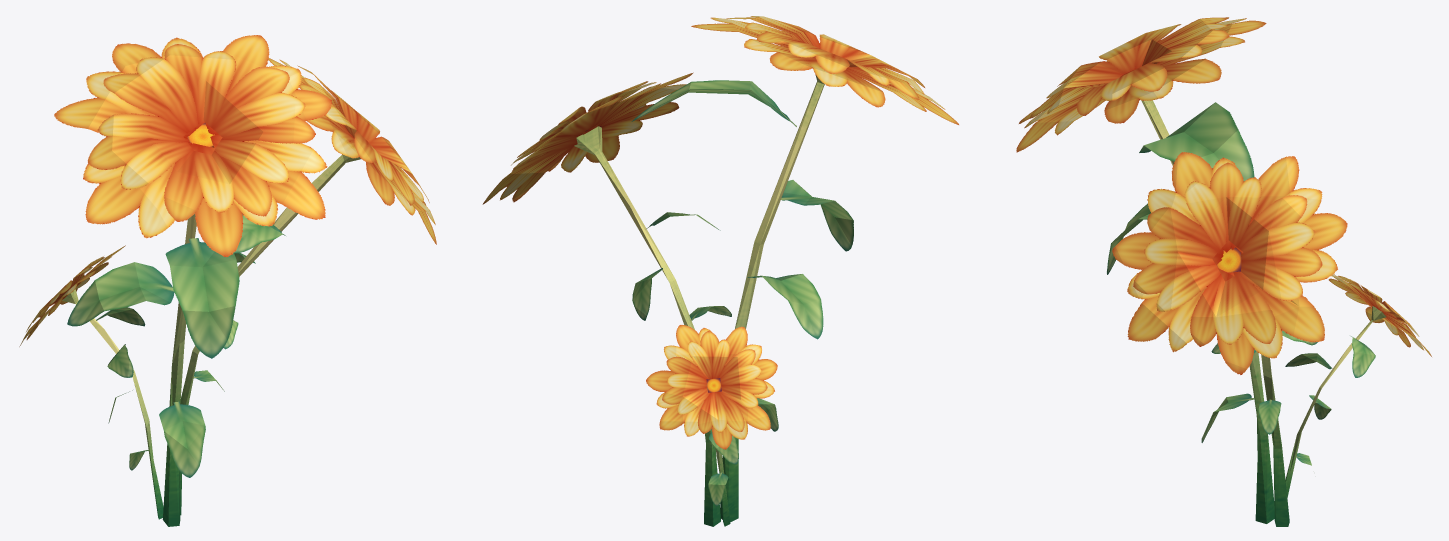
File: VEG0310009.fbx
The picture shows the model from 3 angles, left to right: view 1: azimuth 30°, elevation 25°; view 2: azimuth 150°, elevation 25°; view 3: azimuth 270°, elevation 25°; orthographic projection. The views are drawn at different scales.
Visible parts, largest first — view 1: smVEG0310009; view 2: smVEG0310009; view 3: smVEG0310009.
Boxes of the visible parts, x1,y1,x2,y2 form: smVEG0310009: (19,35,436,526); smVEG0310009: (482,16,958,526); smVEG0310009: (1016,17,1431,526).
Bounding box in the file's own units: 27.02 × 30.54 × 25.17.
1 material, 1 textured.
